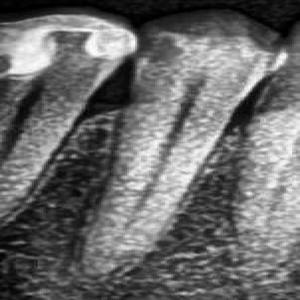tooth: (89, 10, 290, 288), (1, 8, 144, 206), (228, 17, 299, 294)
